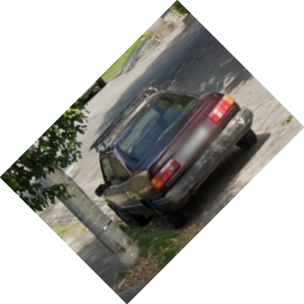car: (93, 90, 259, 230)
